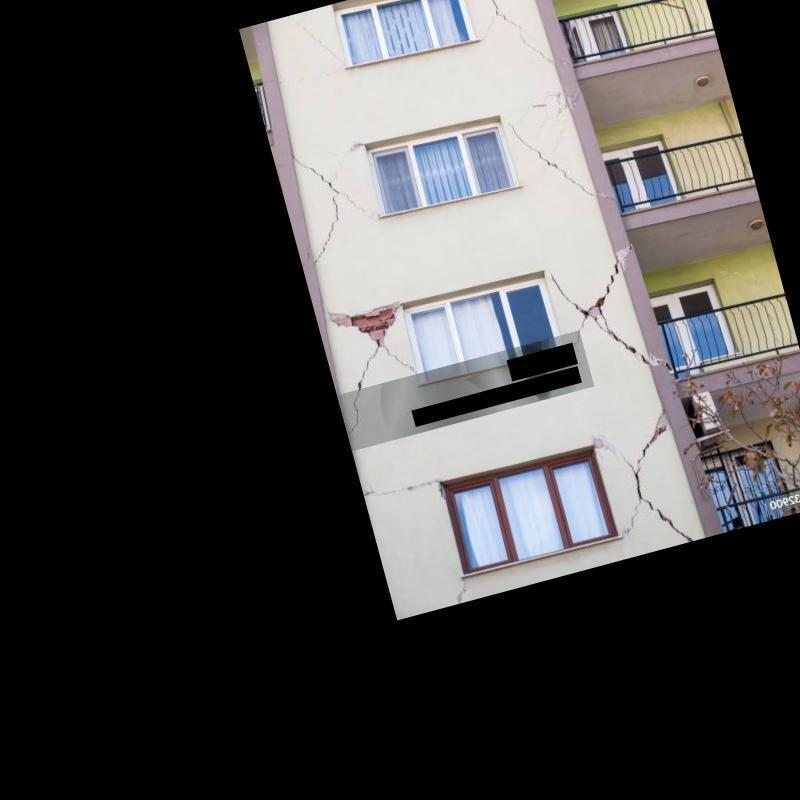pothole: (593, 417, 700, 547), (293, 154, 378, 266), (508, 120, 617, 202), (344, 342, 418, 438), (547, 254, 620, 347), (590, 306, 673, 371), (492, 0, 560, 67), (288, 15, 348, 68), (359, 477, 445, 501), (454, 576, 470, 609), (529, 102, 549, 108)
